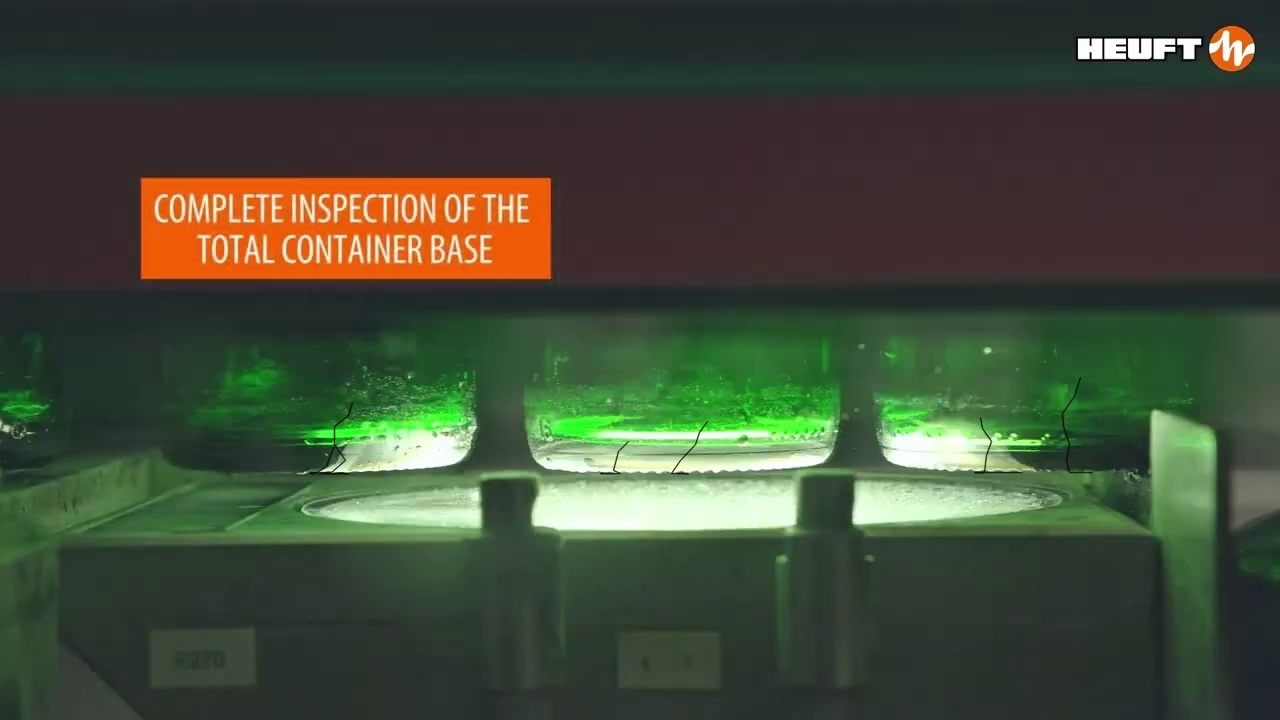bottle: (873, 326, 1195, 473), (523, 328, 840, 473), (158, 334, 479, 469)
crack: (309, 402, 352, 472), (974, 417, 1022, 472), (600, 441, 628, 473)
